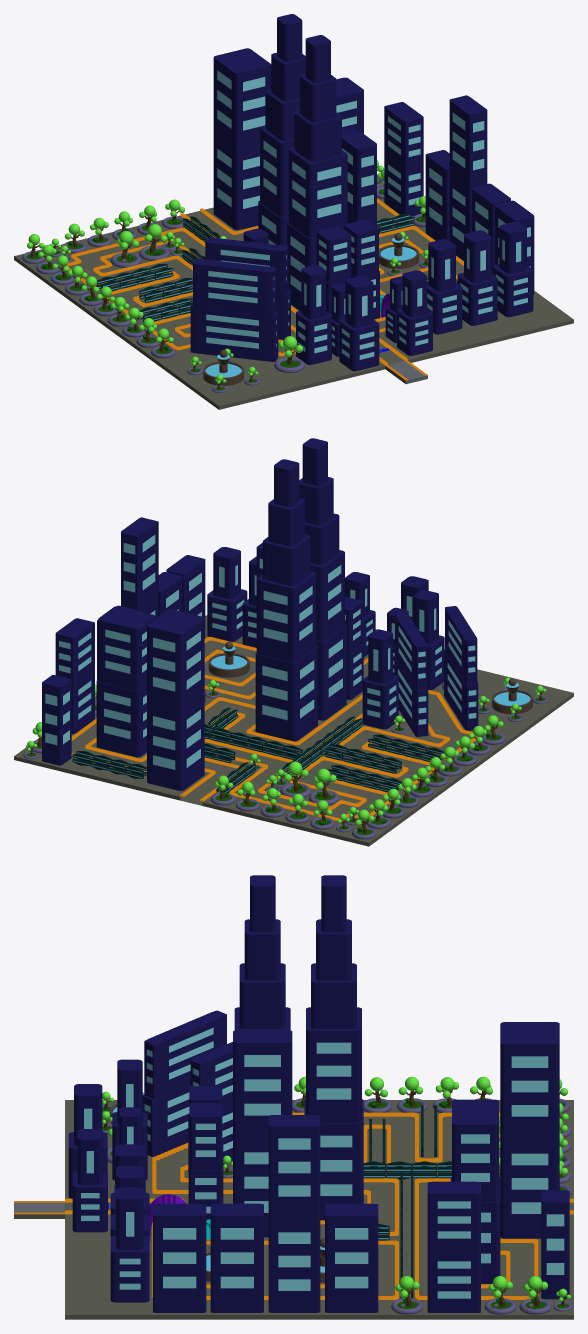
The model's file is Map1.fbx.
3 views of the same model, one above another, from view 1: azimuth 30°, elevation 25°; view 2: azimuth 150°, elevation 25°; view 3: azimuth 270°, elevation 25° (orthographic). The views are drawn at different scales.
Visible parts, largest first — view 1: Cube.053, Cube.052; view 2: Cube.053, Cube.052; view 3: Cube.053, Cube.052.
Part boxes in pixels (<box>): Cube.053: <box>22,14,534,392</box>; Cube.052: <box>14,197,573,409</box>; Cube.053: <box>23,438,547,839</box>; Cube.052: <box>14,615,573,846</box>; Cube.053: <box>68,875,571,1314</box>; Cube.052: <box>14,1100,573,1319</box>.
Size of the model in its own units: 10000 by 7202 by 11000.
